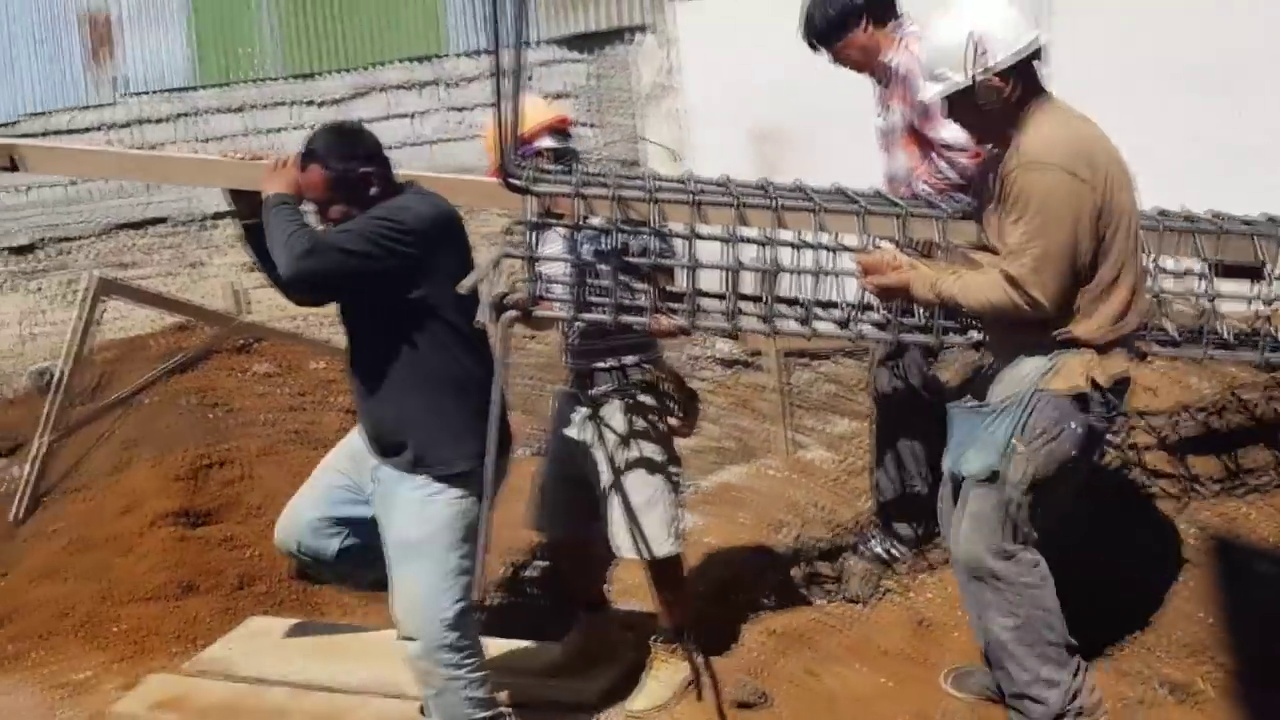helmet: (907, 3, 1045, 106), (502, 99, 570, 155)
helmet-off: (281, 109, 399, 224), (808, 3, 915, 80)
helmet-on: (899, 2, 1053, 167), (495, 90, 574, 184)
person: (840, 0, 1151, 717), (231, 101, 511, 707), (491, 80, 703, 651), (796, 2, 993, 592)
